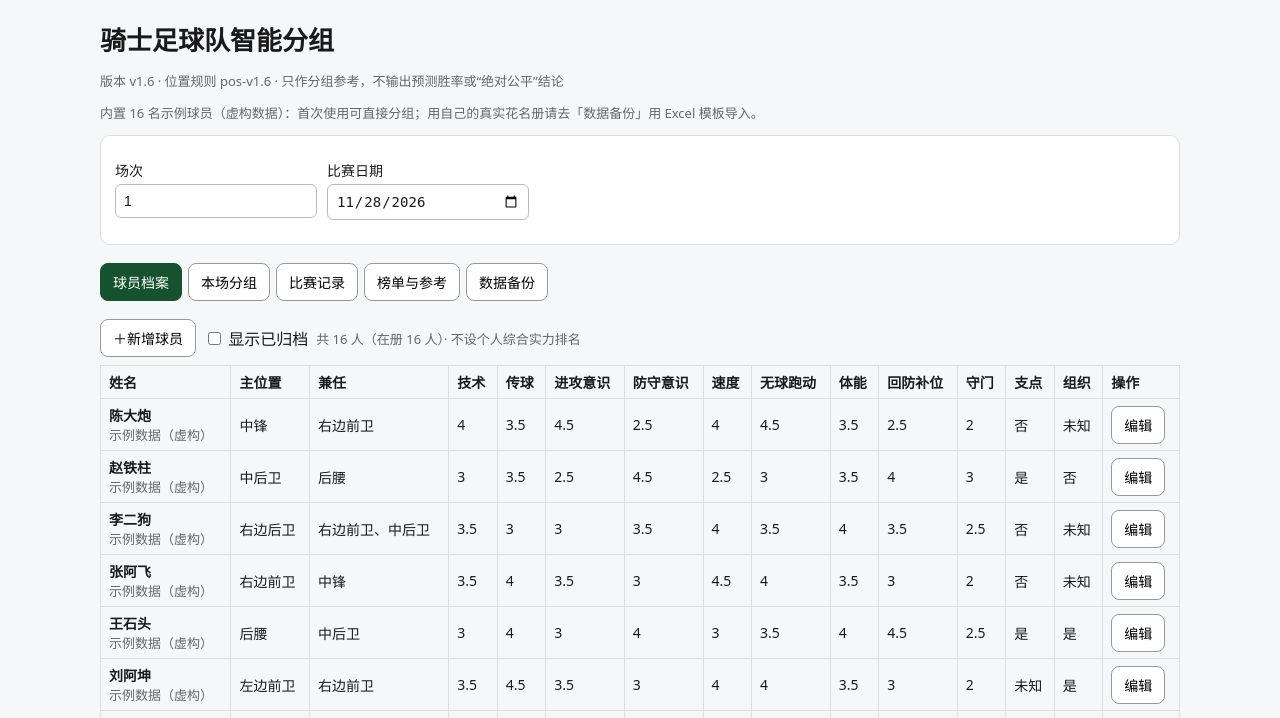
Test case: App smoke (v1.6) › match tab defaults: everyone 正常 / 无伤病, both checkboxes unchecked
The image size is (1280, 718).
Click the button "本场分组" at (229, 282), box [188, 263, 270, 301]
(page scrolled)
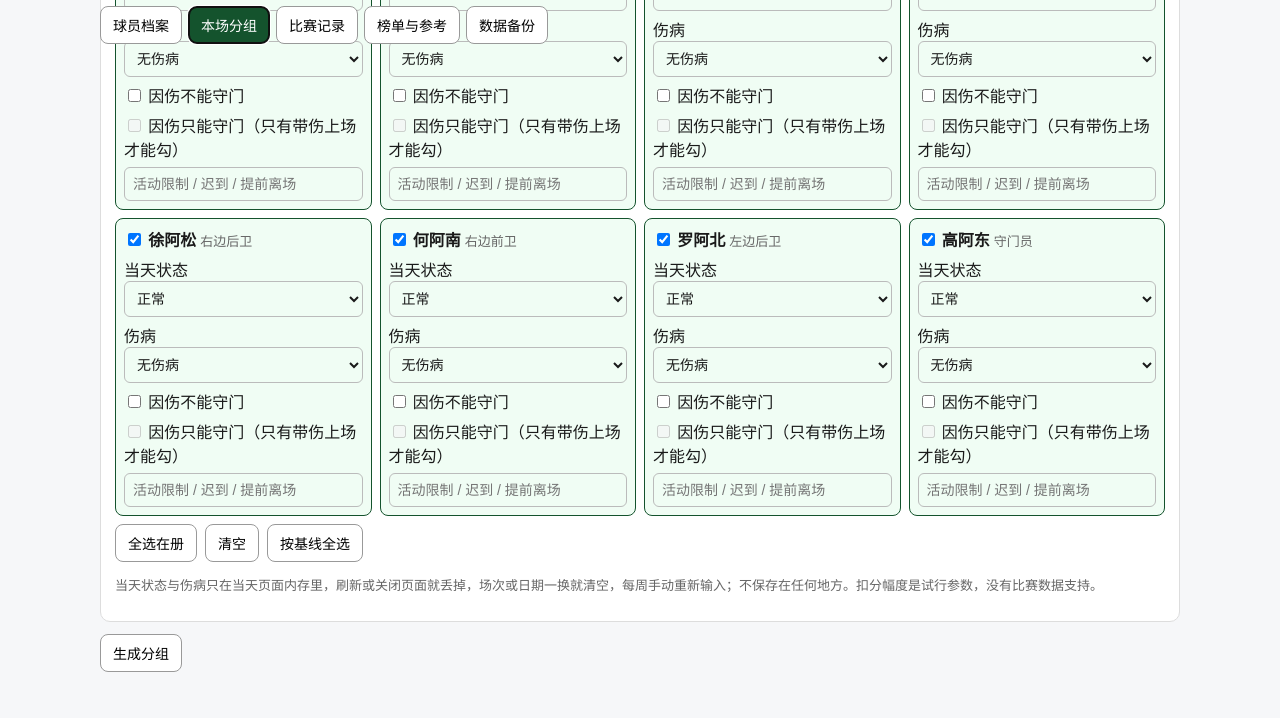
Expected: the dropdown labelled "当天状态" below "徐阿松" shows "正常", [124, 281, 362, 317]
Expected: the dropdown labelled "当天状态" below "何阿南" shows "正常", [388, 281, 627, 317]
Expected: the dropdown labelled "当天状态" below "罗阿北" shows "正常", [653, 281, 892, 317]
